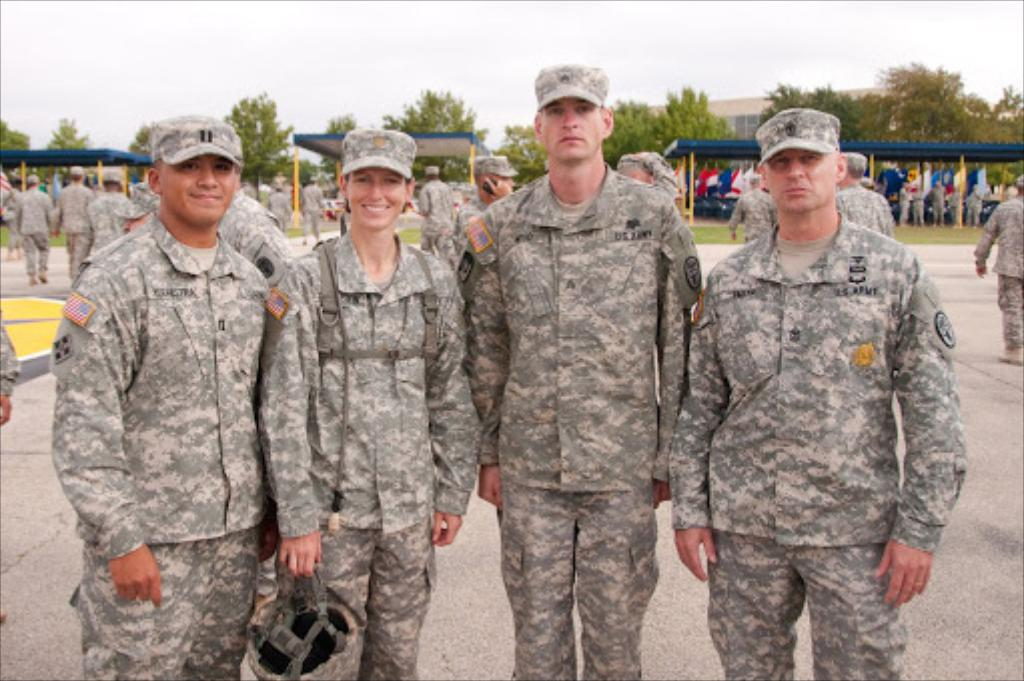Person: (0, 160, 1024, 368), (253, 129, 485, 681), (0, 328, 23, 623)
